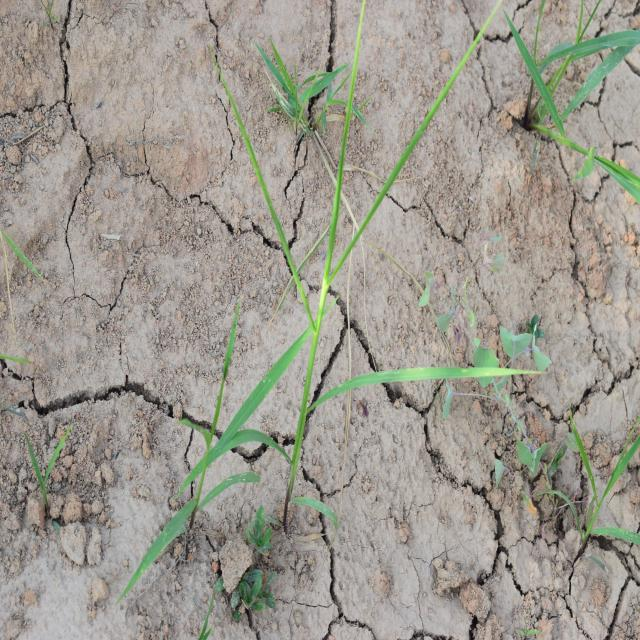green_foxtail: (248, 104, 457, 518), (132, 290, 286, 536), (512, 1, 636, 195)
